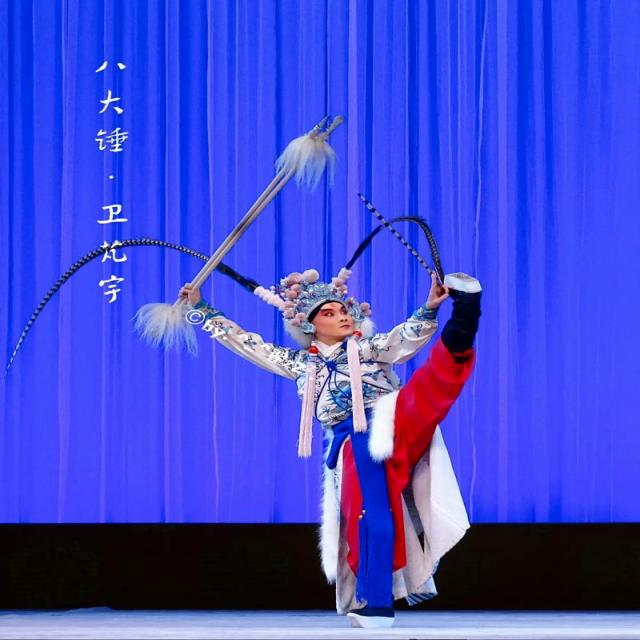Reeves-s Pheasant: (6, 238, 209, 370), (346, 193, 444, 280), (216, 260, 258, 291)
